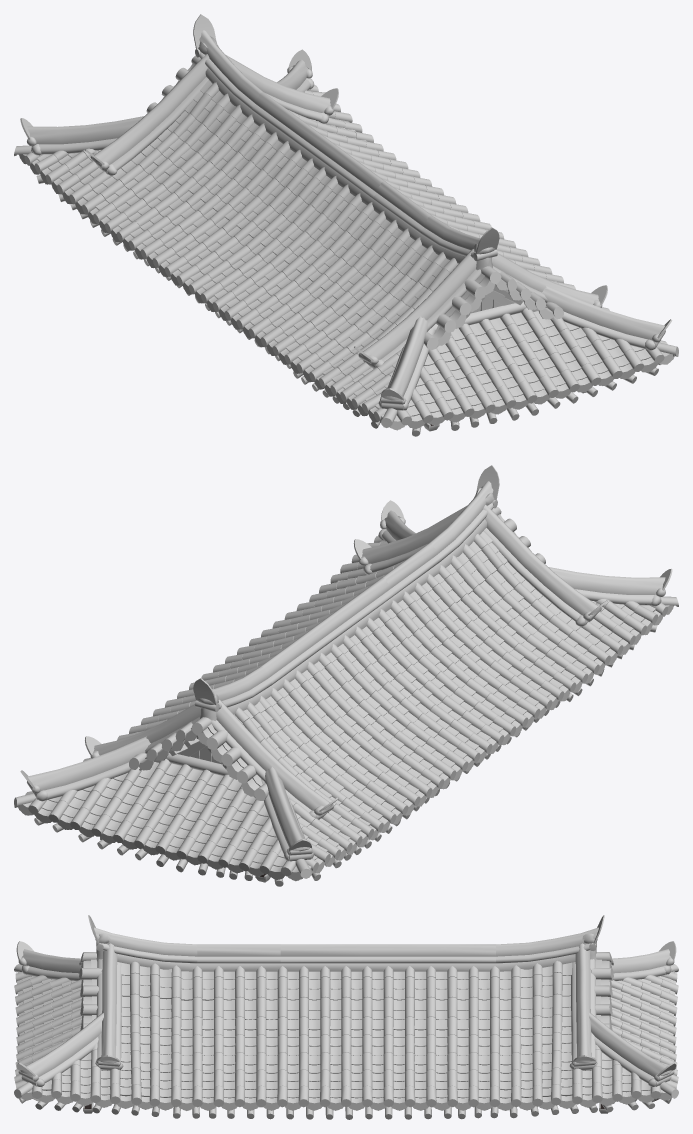
The model's file is SM_Roof_9.FBX.
3 views of the same model, one above another, from view 1: azimuth 30°, elevation 25°; view 2: azimuth 150°, elevation 25°; view 3: azimuth 270°, elevation 25° (orthographic). The views are drawn at different scales.
Parts seen in each view (by area): view 1: SM_Roof_9; view 2: SM_Roof_9; view 3: SM_Roof_9.
Boxes of the visible parts, left/top/right/bottom form: SM_Roof_9: left=14, top=14, right=678, bottom=436; SM_Roof_9: left=14, top=465, right=678, bottom=886; SM_Roof_9: left=14, top=915, right=678, bottom=1119.
Bounding box in the file's own units: 913 × 502 × 1992.
